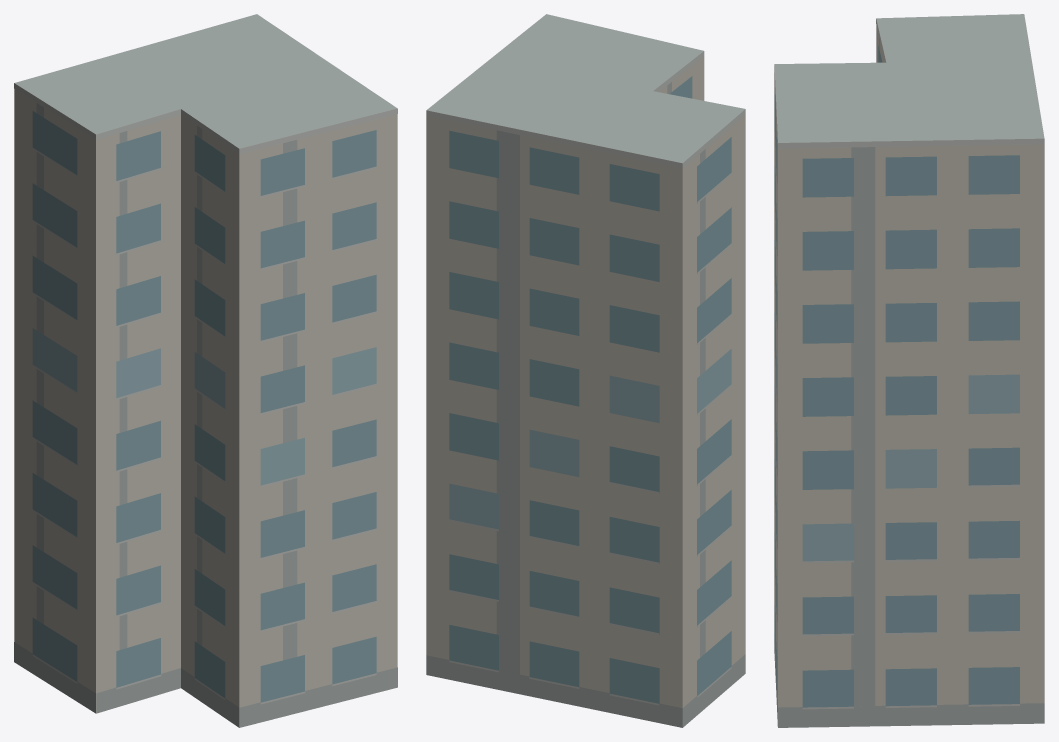
The model's file is survey-upis-32744443.glb.
The picture shows the model from 3 angles, left to right: view 1: azimuth 30°, elevation 25°; view 2: azimuth 150°, elevation 25°; view 3: azimuth 270°, elevation 25°; orthographic projection. The views are drawn at different scales.
Visible parts, largest first — view 1: survey-upis-32744443.tmp; view 2: survey-upis-32744443.tmp; view 3: survey-upis-32744443.tmp.
Boxes of the visible parts, left/top/right/bottom form: survey-upis-32744443.tmp: left=14, top=14, right=397, bottom=727; survey-upis-32744443.tmp: left=426, top=14, right=745, bottom=727; survey-upis-32744443.tmp: left=774, top=14, right=1044, bottom=727.
Size of the model in its own units: 11.97 by 25.3 by 10.6.
